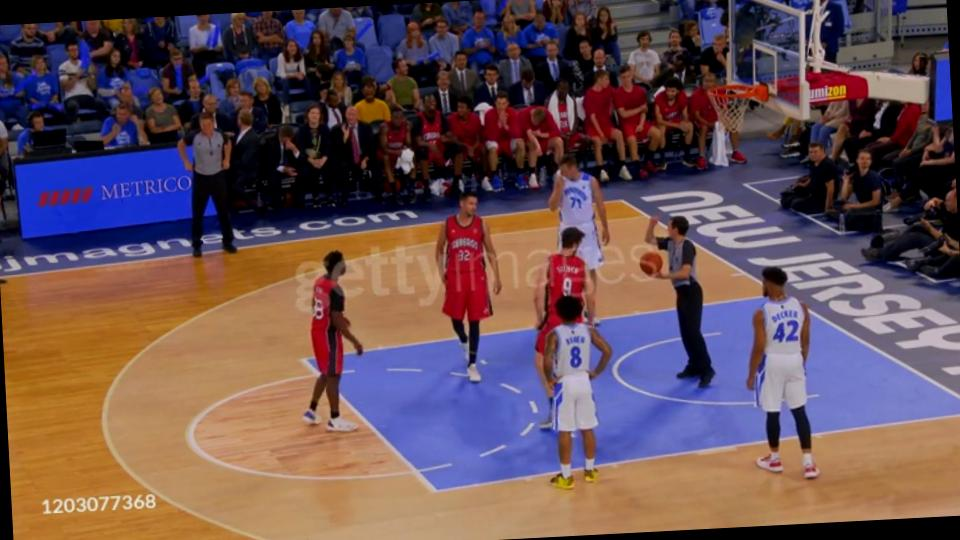hoop: (708, 78, 774, 109)
